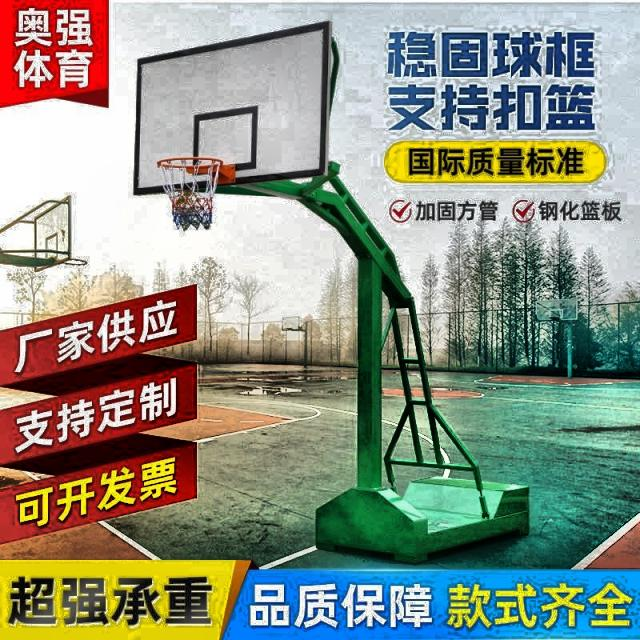rim: (152, 156, 222, 232)
